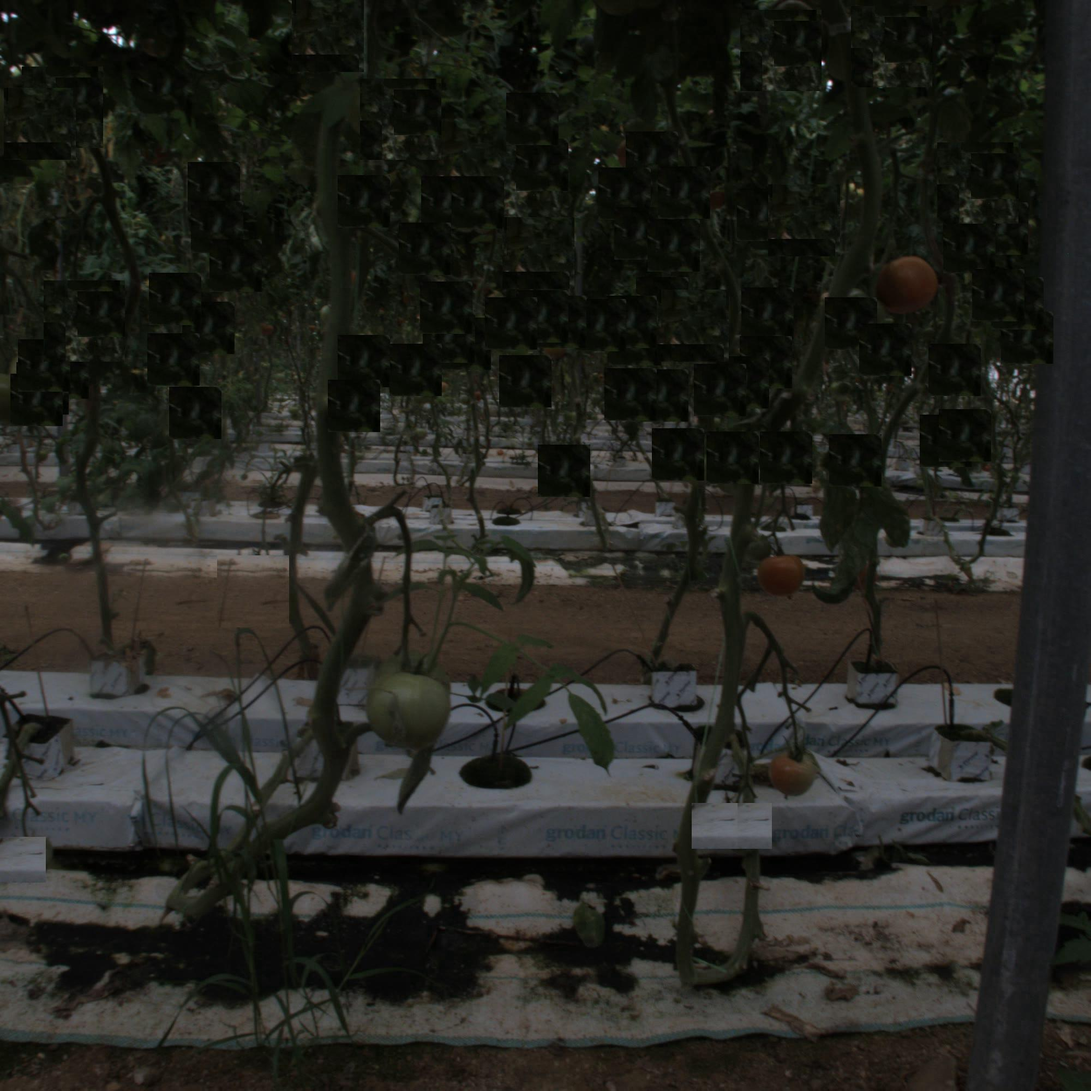['unripe', 'semi-ripe', 'fully-ripe']: (372, 671, 447, 746)
